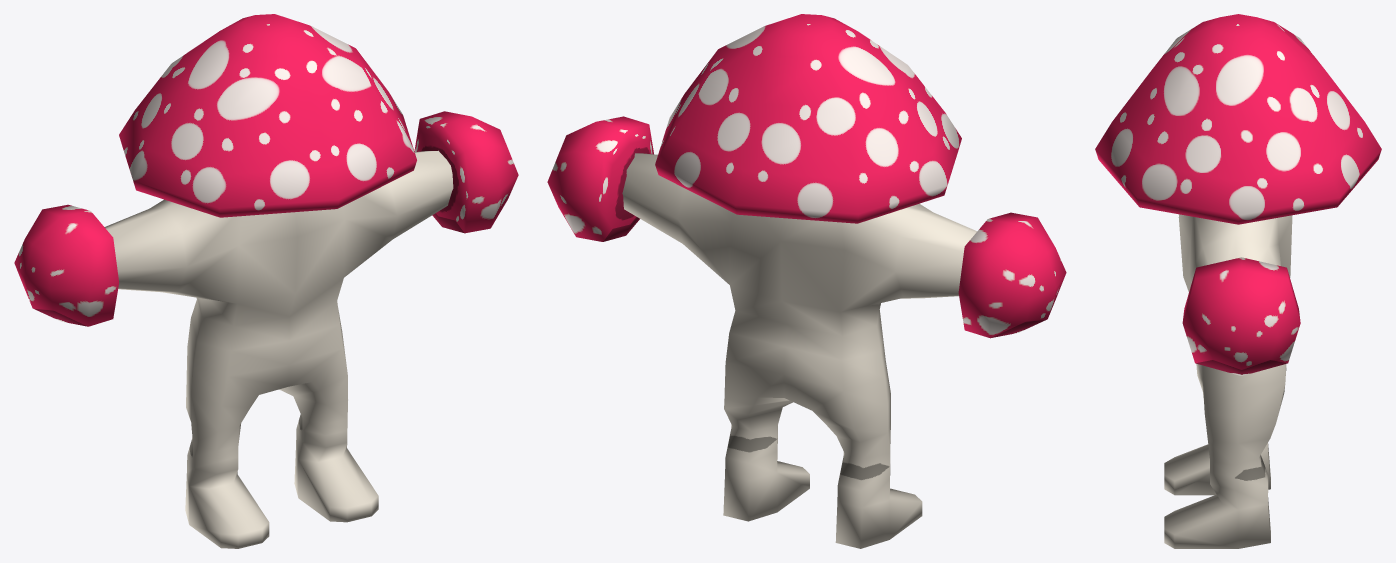
The model's file is MushroomCharacter.fbx.
The picture shows the model from 3 angles, left to right: view 1: azimuth 30°, elevation 25°; view 2: azimuth 150°, elevation 25°; view 3: azimuth 270°, elevation 25°; orthographic projection. The views are drawn at different scales.
Visible parts, largest first — view 1: Cube.001; view 2: Cube.001; view 3: Cube.001.
Part boxes in pixels (x1=…): Cube.001: x1=14, y1=14, x2=518, y2=548; Cube.001: x1=547, y1=14, x2=1066, y2=548; Cube.001: x1=1095, y1=14, x2=1381, y2=548.
Size of the model in its own units: 476 by 452 by 242.
